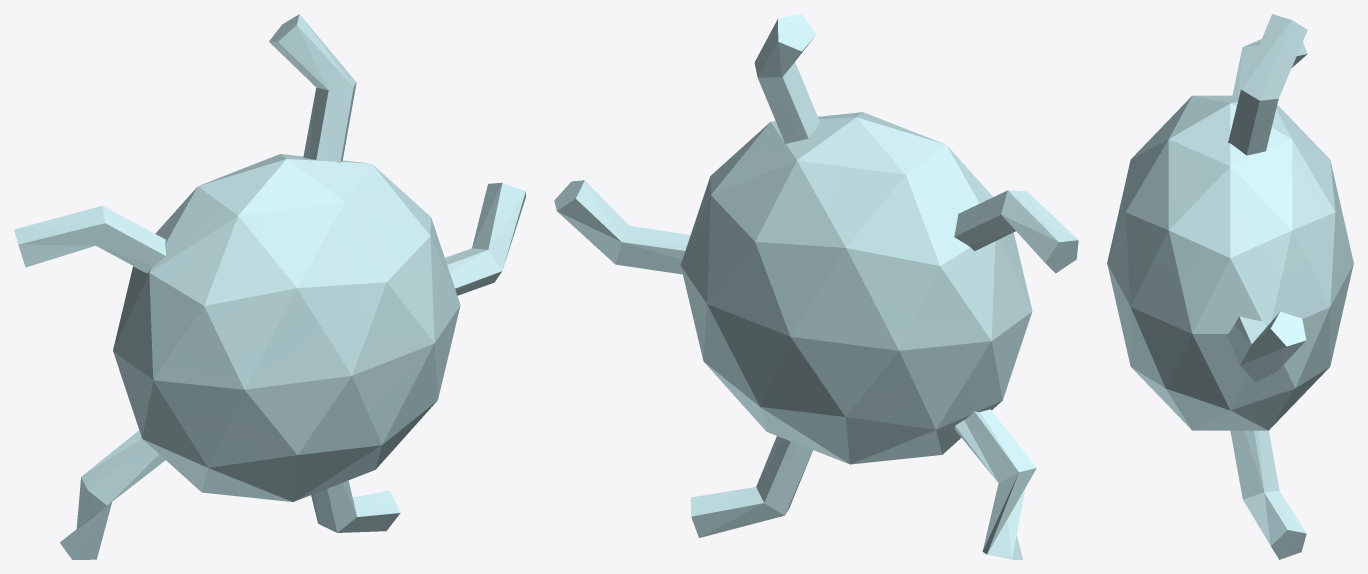
Rendered from Web_Blob.fbx.
The picture shows the model from 3 angles, left to right: view 1: azimuth 30°, elevation 25°; view 2: azimuth 150°, elevation 25°; view 3: azimuth 270°, elevation 25°; orthographic projection. The views are drawn at different scales.
Visible parts, largest first — view 1: Handle, Web_Blob__Body__web_neon; view 2: Handle, Web_Blob__Body__web_neon; view 3: Handle, Web_Blob__Body__web_neon.
Boxes of the visible parts, x1,y1,x2,y2 form: Handle: (113, 154, 460, 501); Web_Blob__Body__web_neon: (14, 14, 525, 559); Handle: (680, 112, 1032, 464); Web_Blob__Body__web_neon: (554, 14, 1078, 559); Handle: (1107, 95, 1353, 430); Web_Blob__Body__web_neon: (1227, 14, 1307, 559).
Bounding box in the file's own units: 0.9525 × 0.9442 × 0.42.
1 material, 1 textured.
